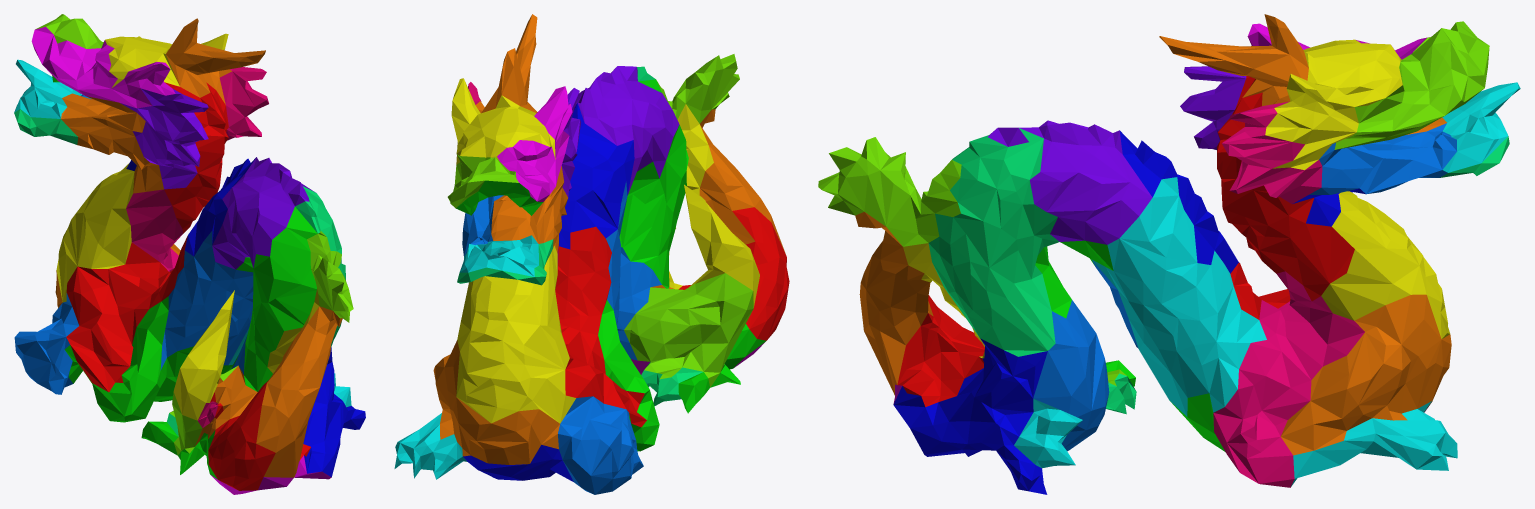
The model's file is Dragon_8K_nanite_LOD1.fbx.
The picture shows the model from 3 angles, left to right: view 1: azimuth 30°, elevation 25°; view 2: azimuth 150°, elevation 25°; view 3: azimuth 270°, elevation 25°; orthographic projection. The views are drawn at different scales.
Bounding box in the file's own units: 0.4397 × 0.7037 × 0.9973.
